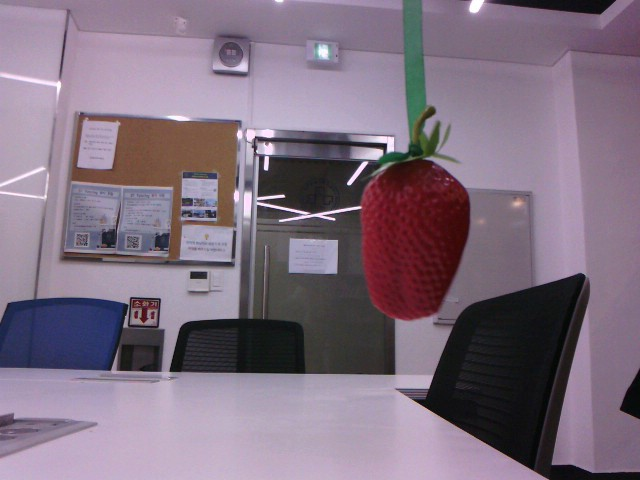strawberry: (352, 145, 472, 322)
